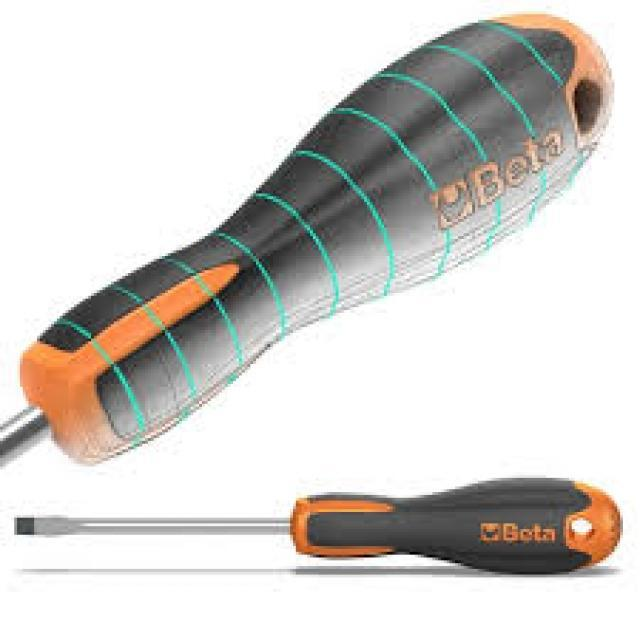screwdriver: (11, 466, 640, 584)
